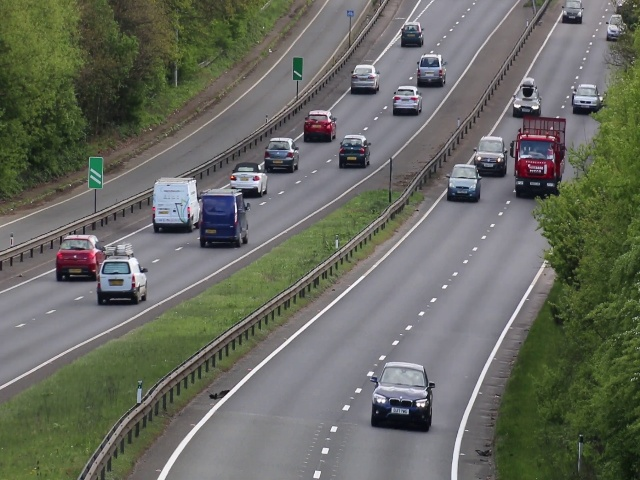car: (371, 358, 431, 432), (201, 190, 249, 247), (517, 127, 556, 196), (97, 256, 148, 305), (155, 176, 198, 232), (56, 237, 98, 279), (447, 164, 480, 203), (265, 137, 300, 172), (229, 163, 268, 193), (478, 136, 505, 179), (301, 109, 337, 139), (339, 134, 369, 166), (392, 85, 422, 115), (419, 55, 447, 86), (571, 81, 599, 110), (350, 65, 380, 92), (513, 88, 541, 115), (400, 21, 423, 48), (561, 1, 584, 26), (604, 12, 618, 38)
